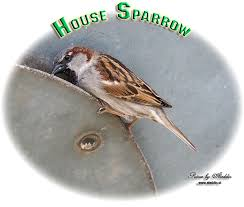hsparrow: (50, 45, 204, 155)
